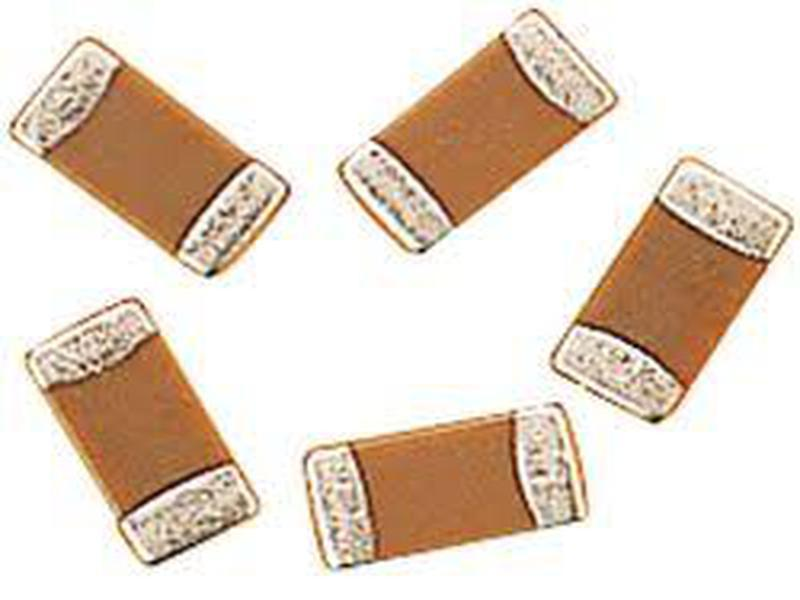SMD capacitor: (340, 4, 627, 264), (8, 40, 296, 291), (17, 298, 274, 568)
